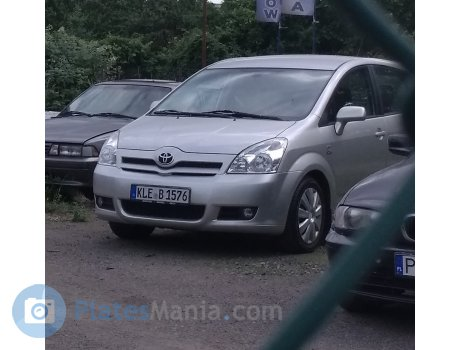License Plates: (142, 185, 183, 197)
